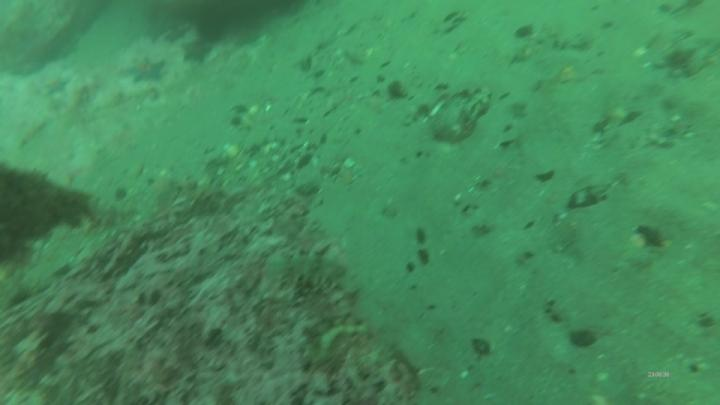starfish: (126, 59, 168, 84), (43, 76, 72, 99)
waterweeds: (1, 156, 106, 271)
